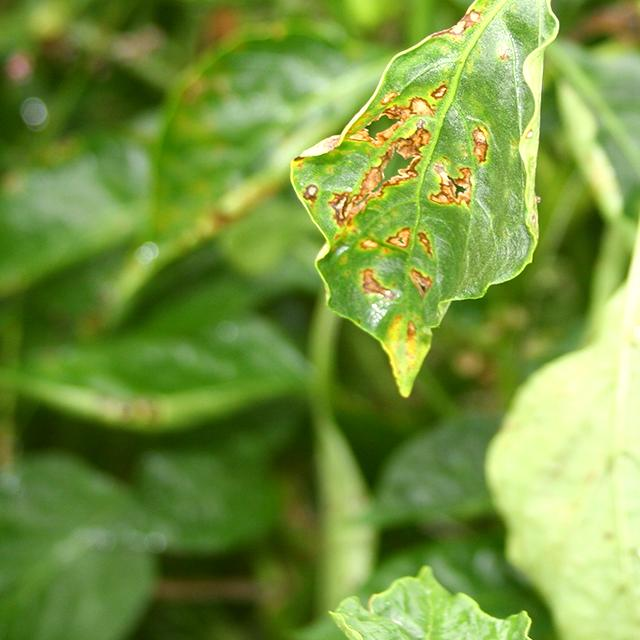Tomato leaf bacterial spot: (268, 0, 611, 402)
